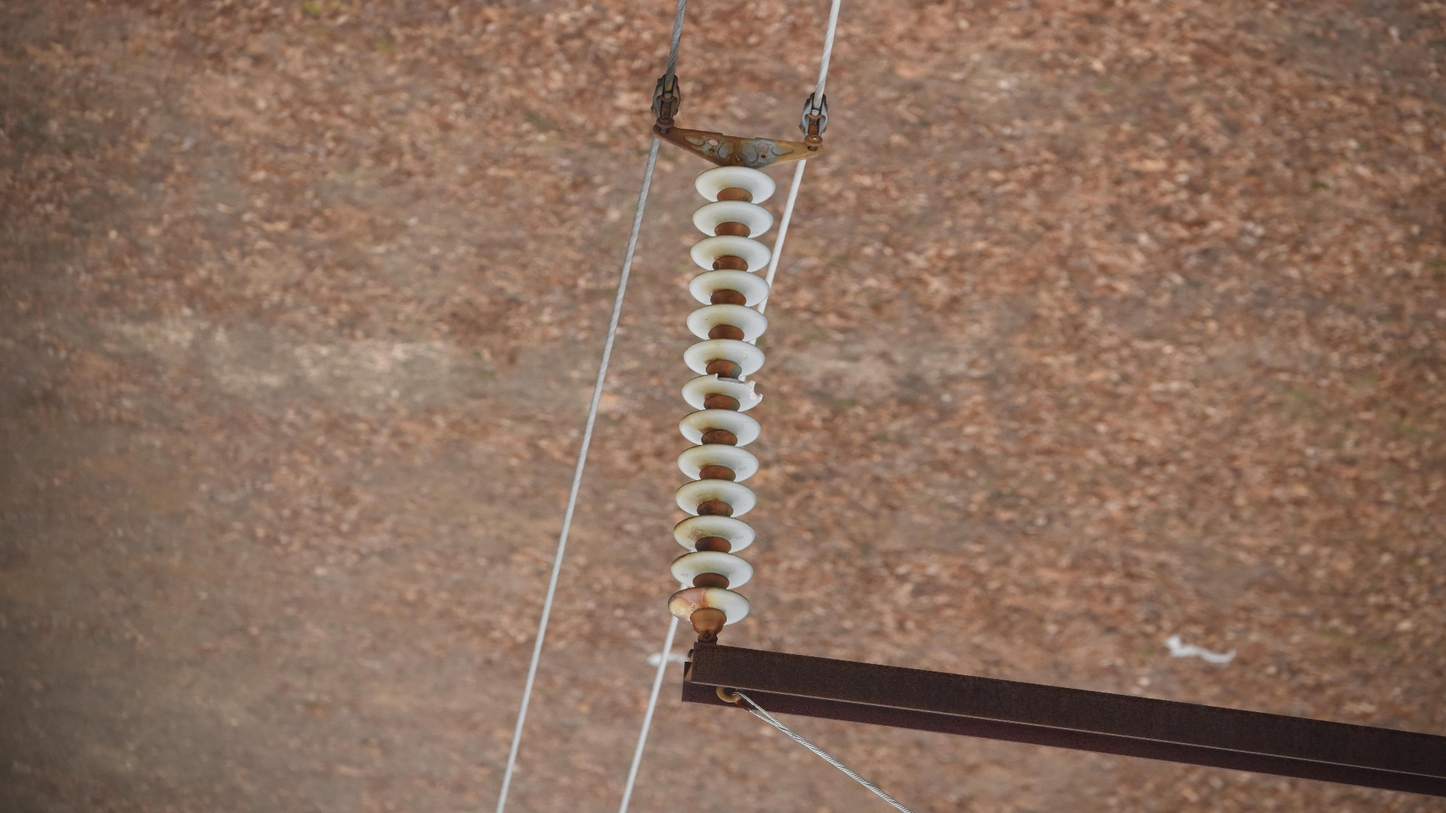insulator: (662, 163, 779, 634)
insulator_breakage: (712, 370, 764, 404)
